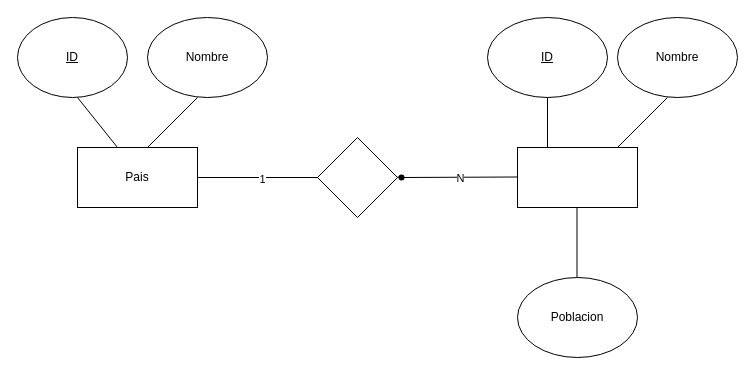
This 755x375 diagram has some shape labels left out. The shapes that lost their labels are listed below. From the top down, each one's centre as x and y in pixels, then its label:
the point at 357,177: Tiene
the point at 577,177: Ciudad
